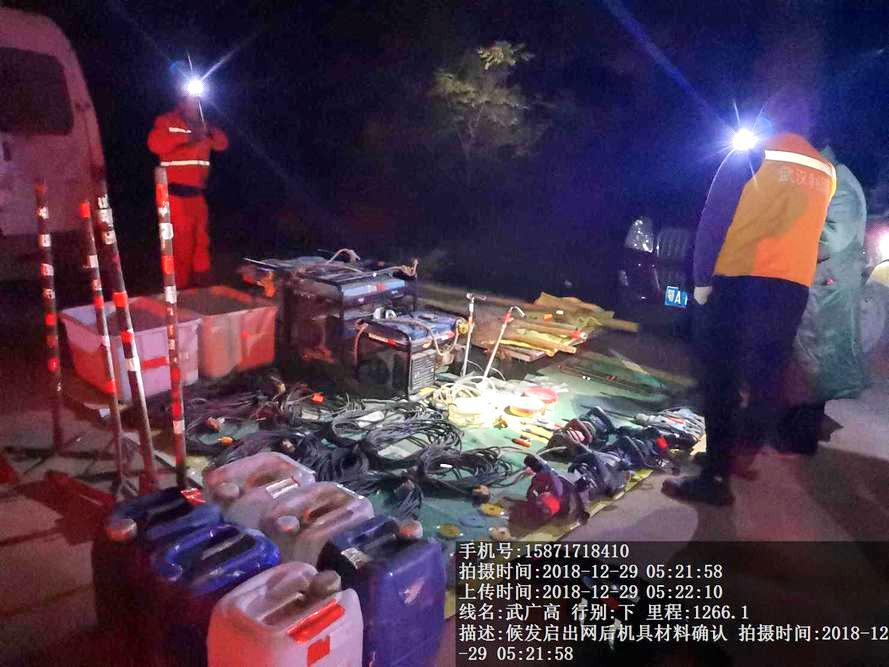DJ: (345, 309, 469, 396), (274, 248, 347, 377)
DX: (419, 451, 509, 506), (183, 414, 264, 454), (369, 426, 459, 459)
GFJ: (515, 454, 592, 524)
JC: (511, 394, 549, 417)
SLT: (85, 491, 195, 653), (203, 564, 366, 664), (347, 524, 443, 657), (202, 447, 310, 508)
T: (176, 284, 279, 370)
